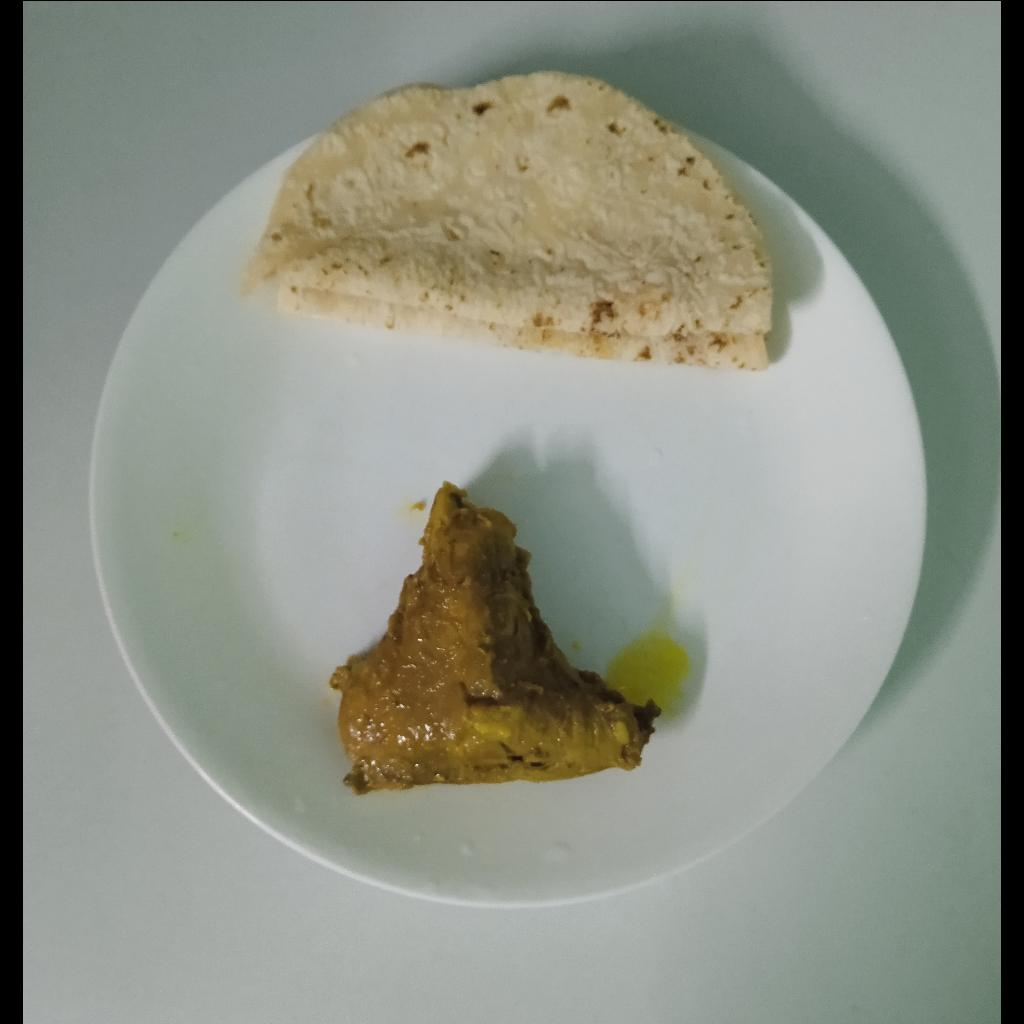chicken: (328, 483, 661, 797)
ruti: (239, 68, 778, 372)
